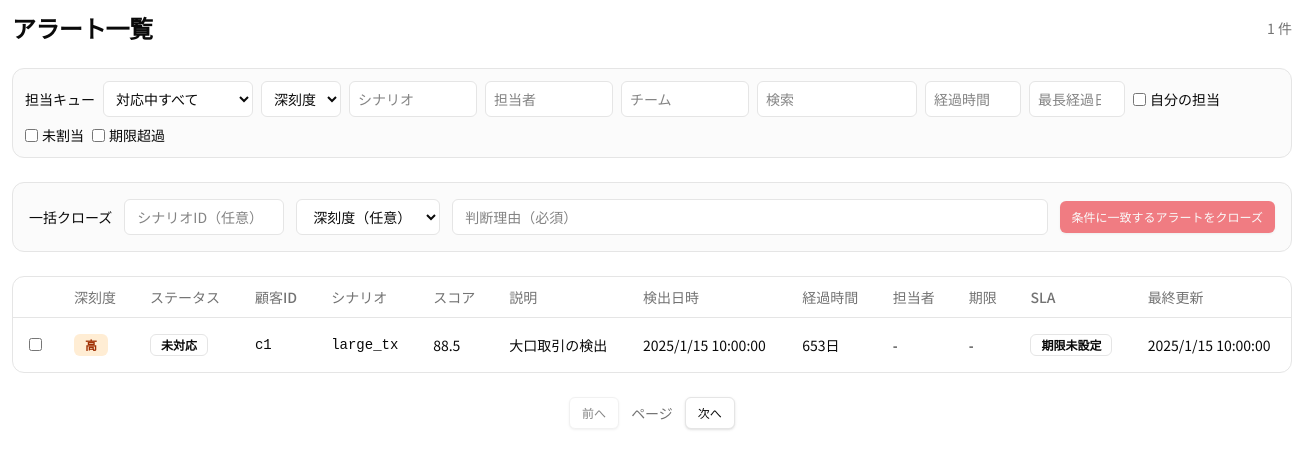
it: loads an alert from the second cursor page
Expected: the text "大口取引の検出" is shown, [493,317,627,372]
Click the button "次へ" at (710, 412), box [685,396,735,428]
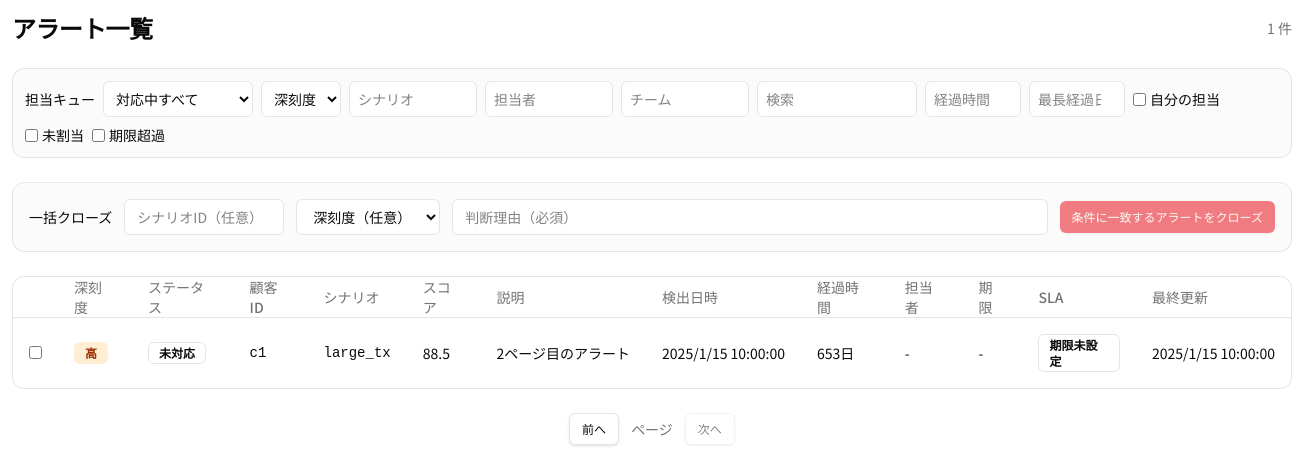
Now the text "2ページ目のアラート" is shown, box [481,318,646,388]
